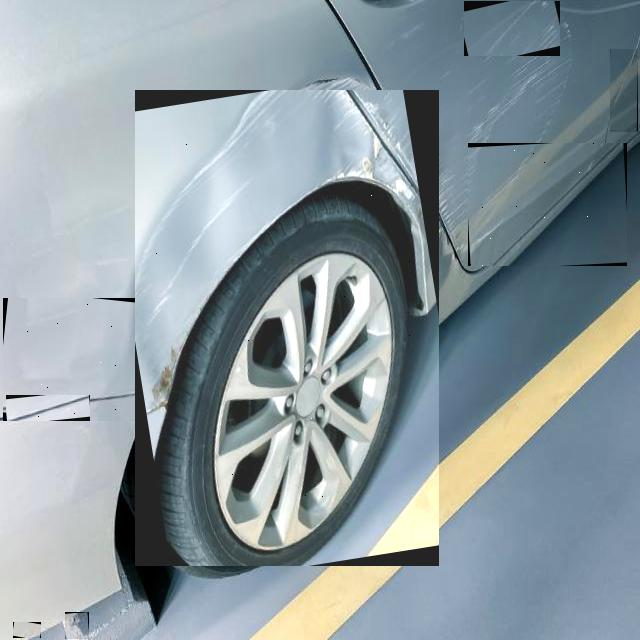Dent: (135, 90, 439, 566), (3, 298, 196, 421), (468, 143, 627, 266), (356, 144, 428, 243), (464, 1, 560, 56), (610, 50, 638, 134), (6, 395, 90, 421), (65, 612, 89, 639), (398, 116, 418, 147), (416, 197, 434, 223), (13, 622, 41, 638), (353, 385, 368, 410), (400, 150, 410, 172), (358, 180, 370, 191)
